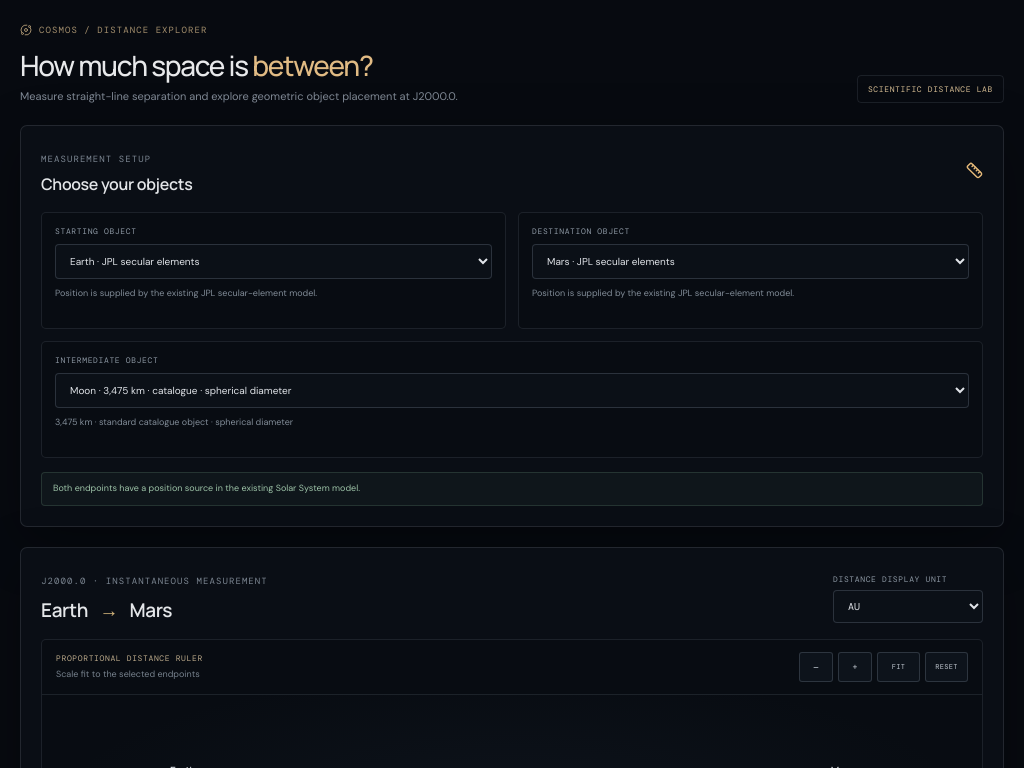
Scenario: Distance Explorer integration › explains unavailable Moon positions and does not render a ruler
The image size is (1024, 768).
Select "Moon · Position model unavailable" in the dropdown labelled "DESTINATION OBJECT" at (750, 262), box [532,244,969,279]
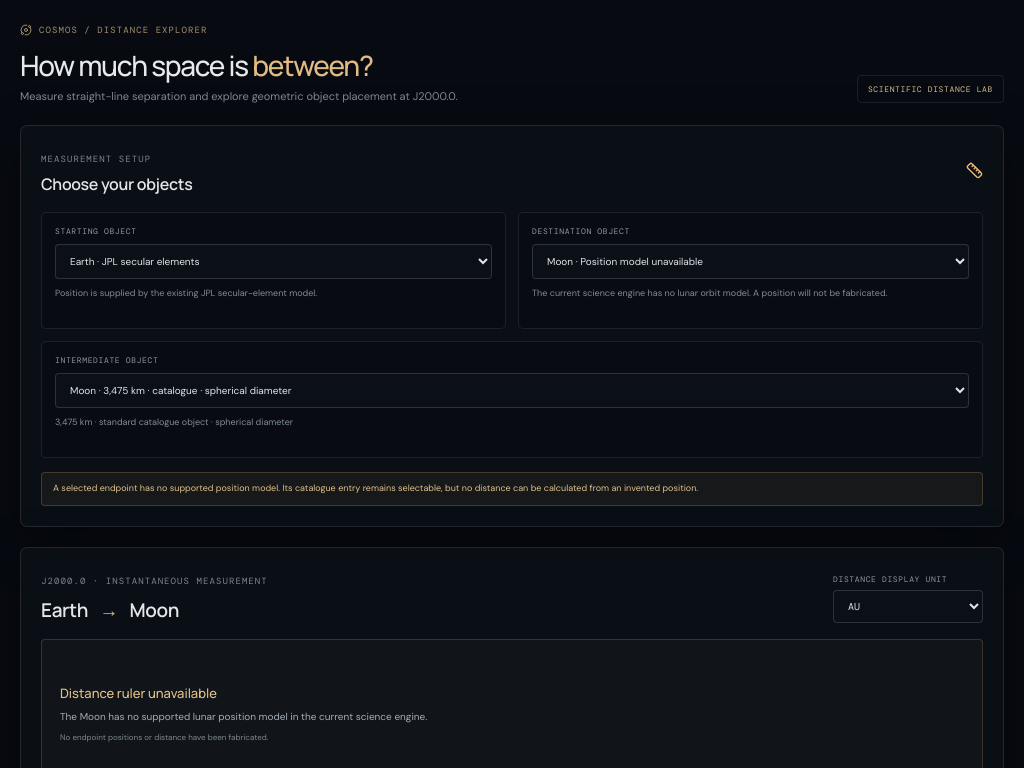
Expected: the text "Distance ruler unavailable" is shown, [60,684,217,702]
